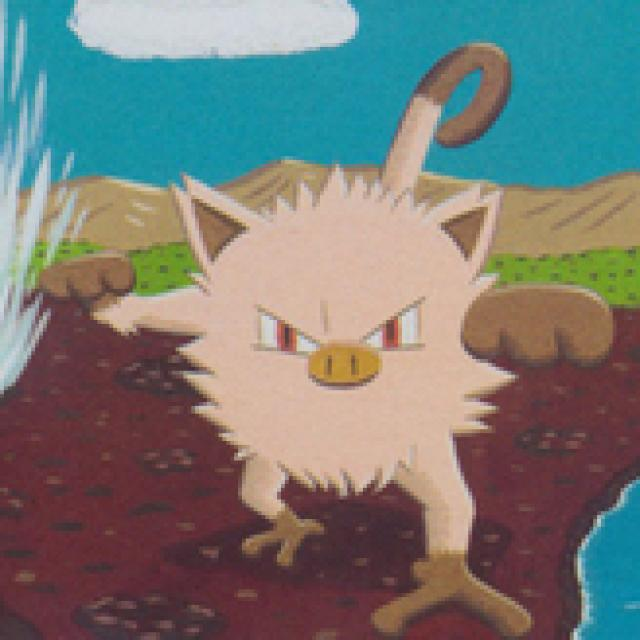Mankey: (100, 118, 548, 599)
